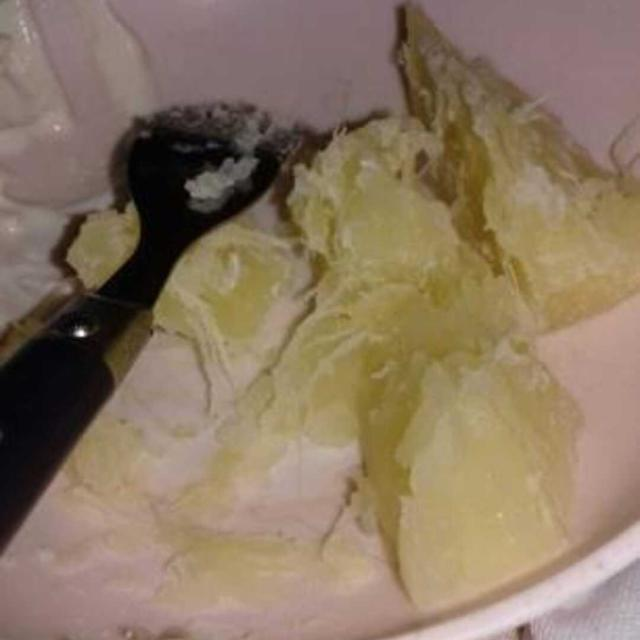yuca: (345, 12, 640, 323)
